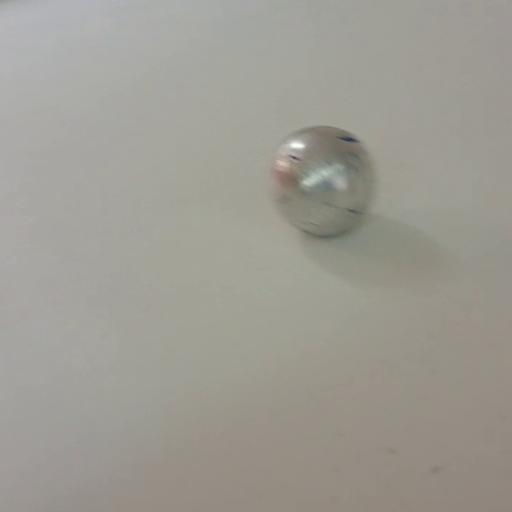alive: (270, 124, 373, 236)
